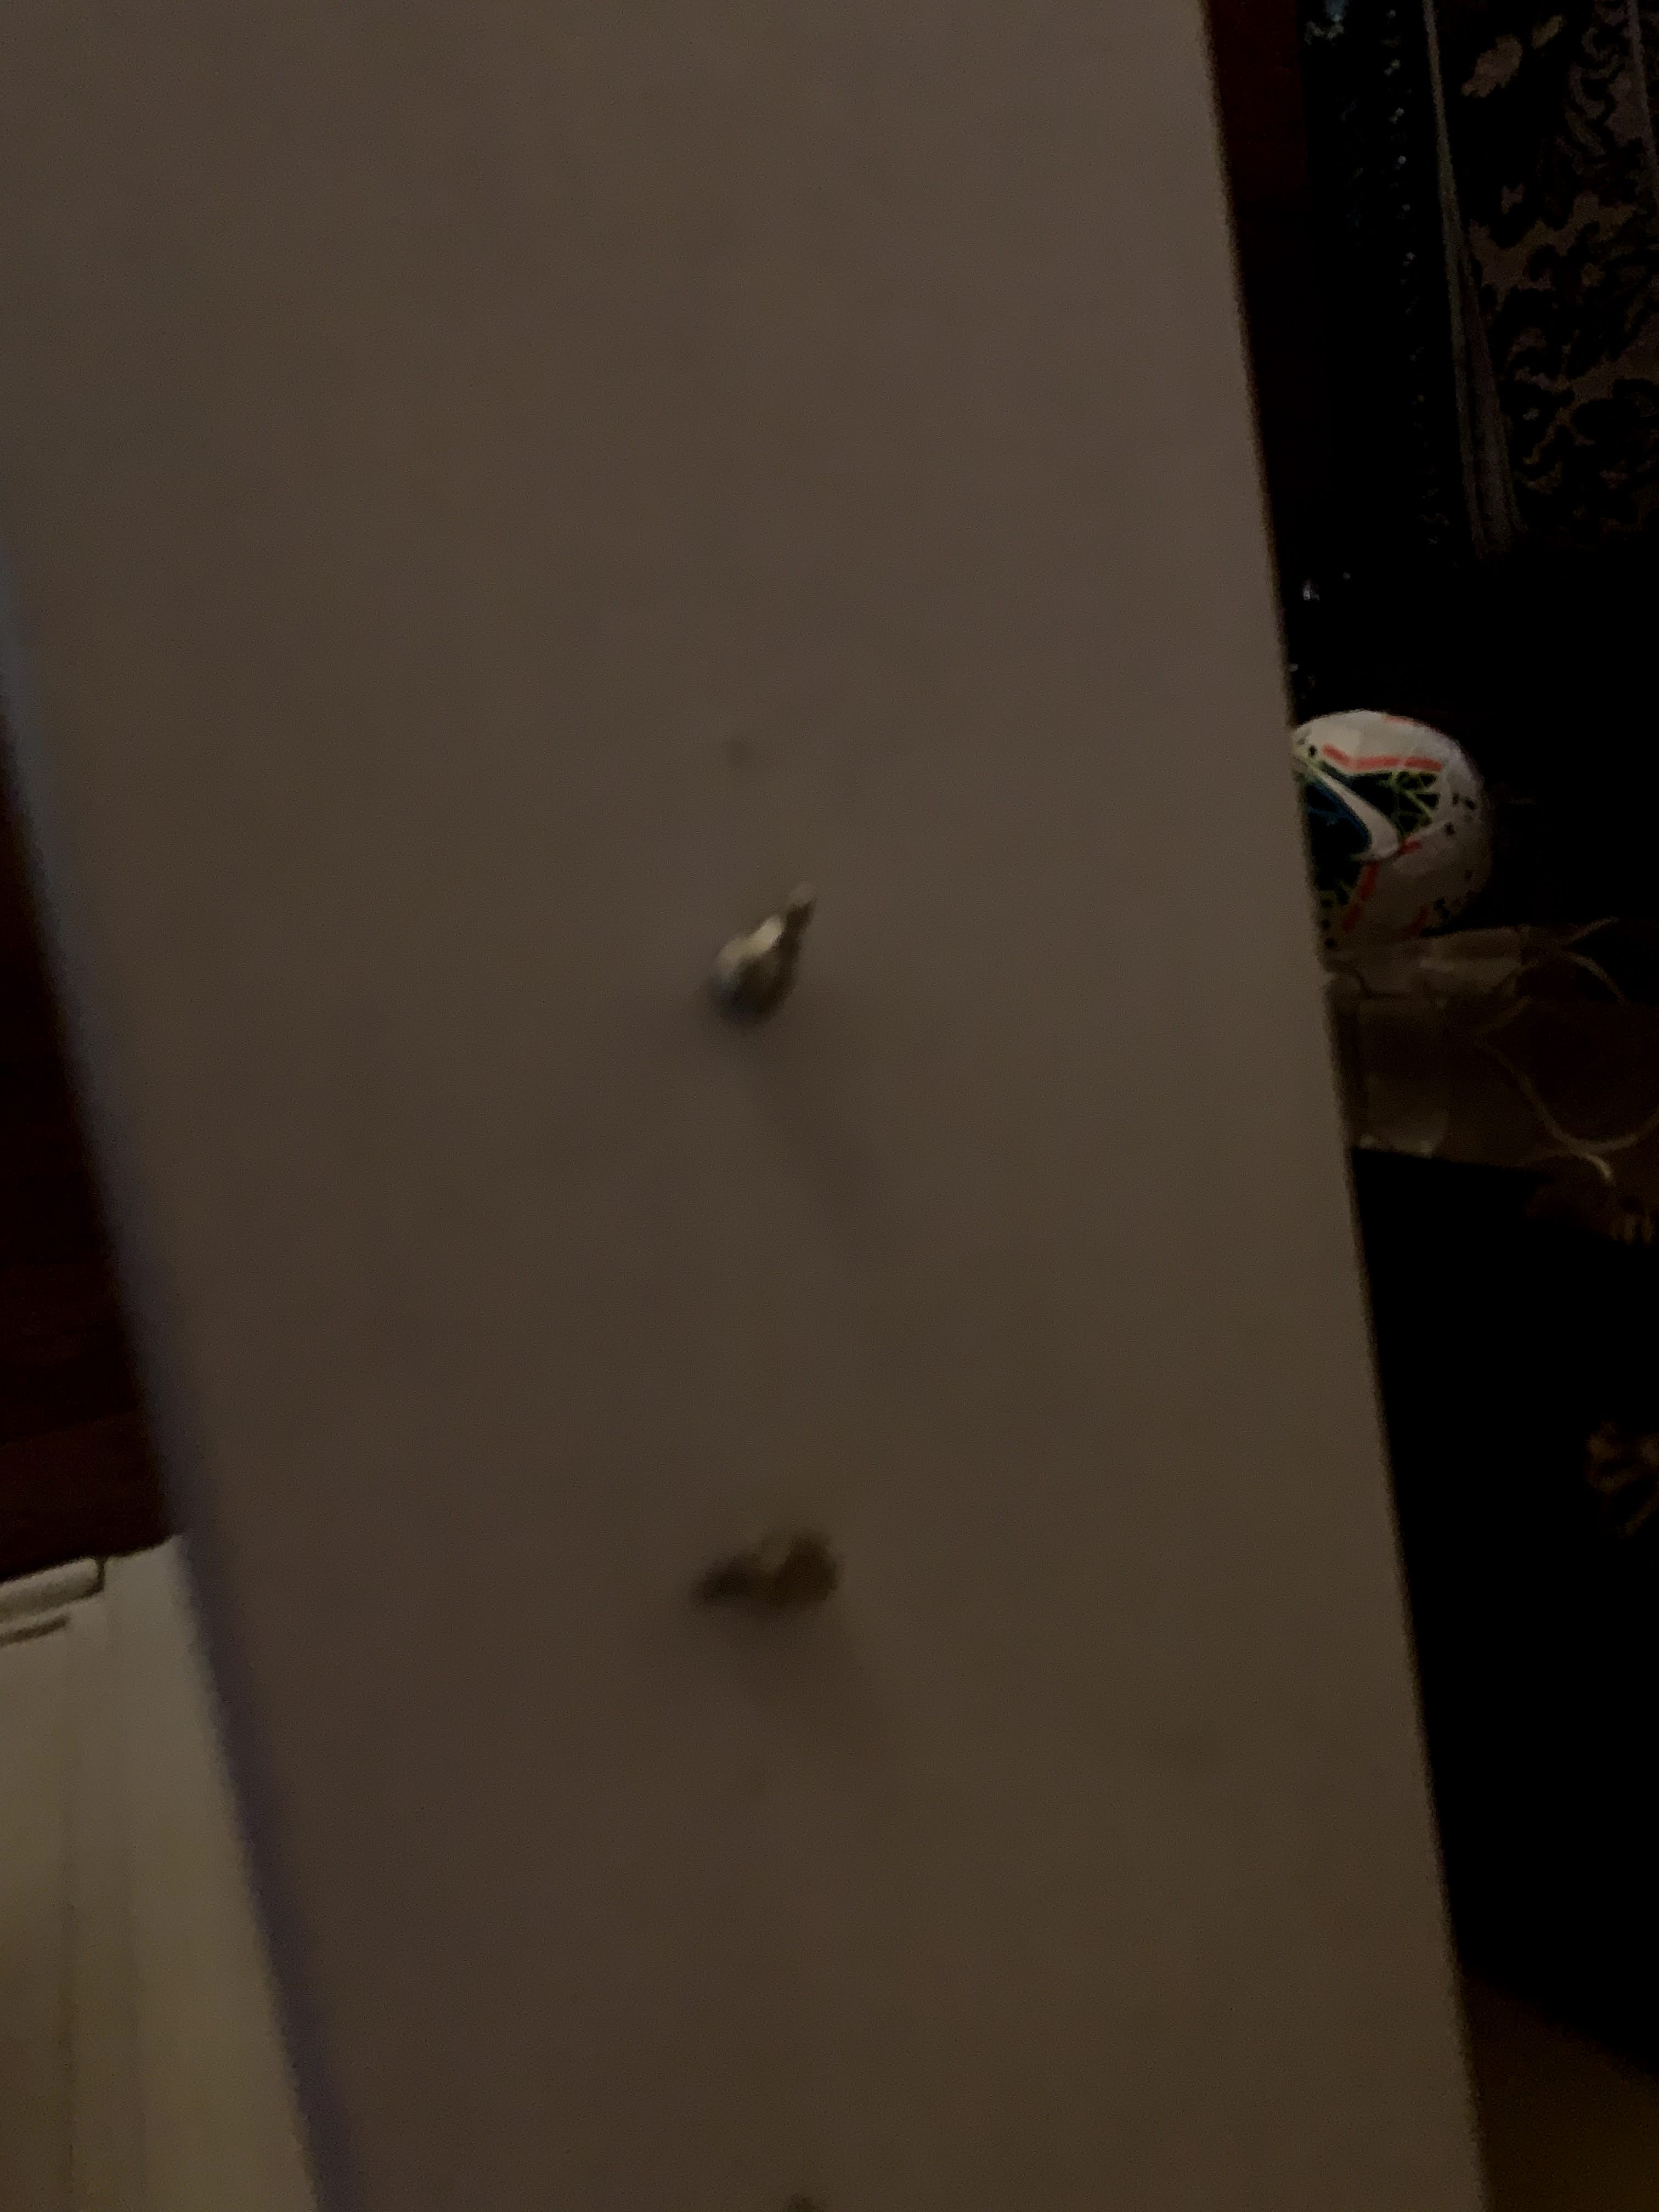Space-debris-small: (683, 873, 816, 1052), (685, 1522, 845, 1623)
